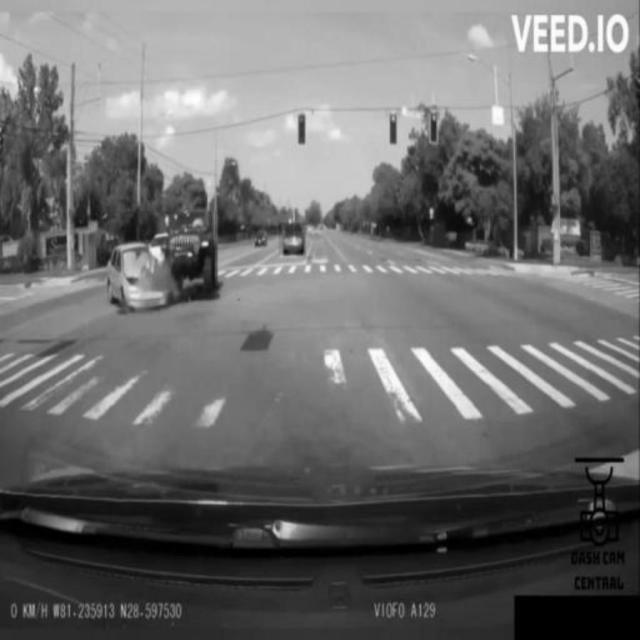accident: (107, 212, 217, 308)
vehicle: (279, 223, 306, 257)
